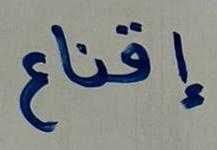ain: (16, 40, 53, 138)
alef: (55, 16, 73, 90)
hamza: (162, 24, 210, 123)
noon: (74, 36, 107, 98)
qaf: (108, 12, 161, 101)
